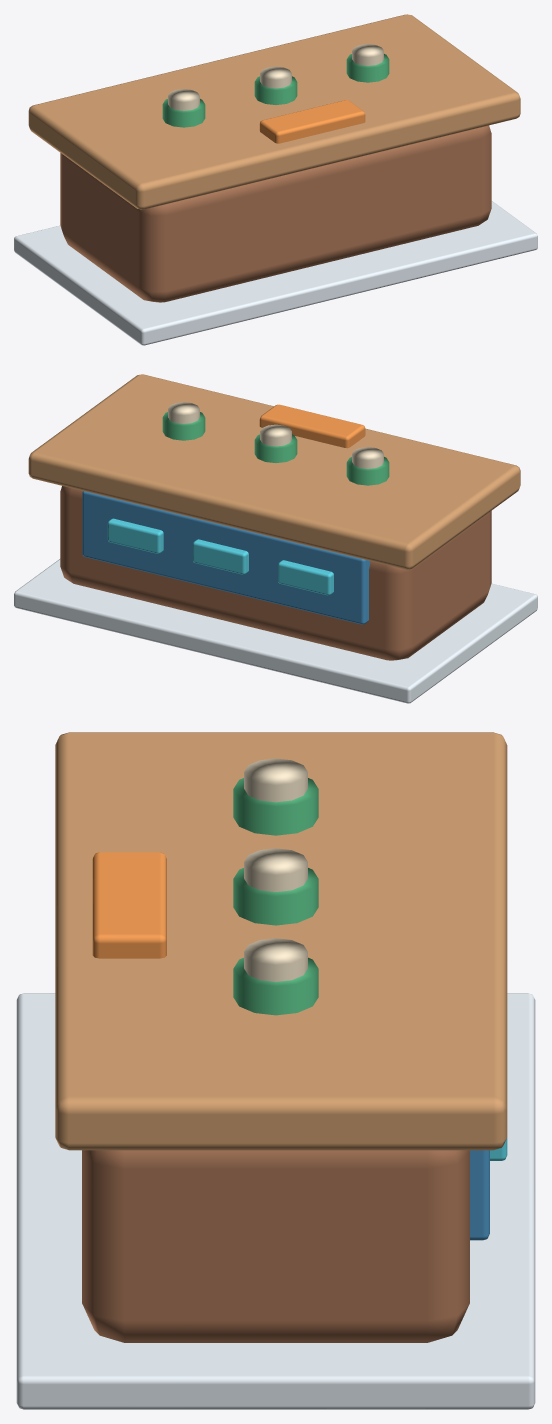
Rendered from service_counter.glb.
3 views of the same model, one above another, from view 1: azimuth 30°, elevation 25°; view 2: azimuth 150°, elevation 25°; view 3: azimuth 270°, elevation 25° (orthographic). The views are drawn at different scales.
Parts seen in each view (by area): view 1: service_counter; view 2: service_counter; view 3: service_counter.
Boxes of the visible parts, x1,y1,x2,y2 form: service_counter: [14, 14, 537, 345]; service_counter: [14, 374, 537, 703]; service_counter: [16, 732, 535, 1409].
Bounding box in the file's own units: 3.45 × 1.48 × 1.95.
